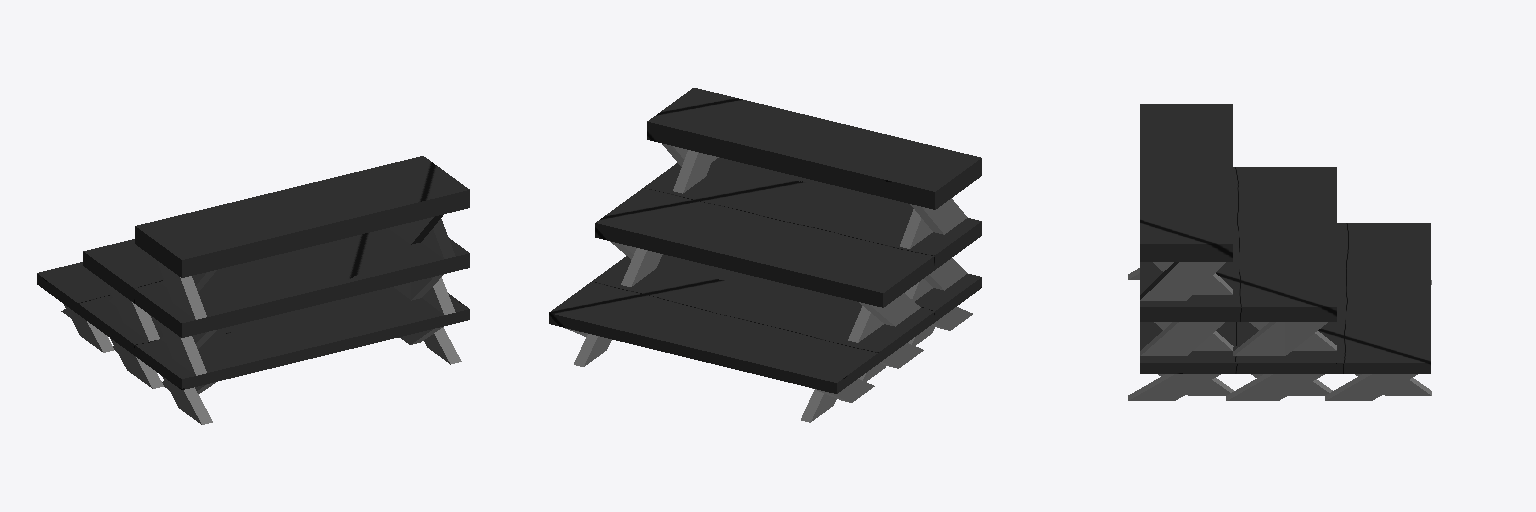
3 views of the same model, side by side, from view 1: azimuth 30°, elevation 25°; view 2: azimuth 150°, elevation 25°; view 3: azimuth 270°, elevation 25° (orthographic).
Visible parts, largest first — view 1: Cube; view 2: Cube; view 3: Cube.
Part boxes in pixels (bbox=[...]): Cube: bbox=[37, 156, 469, 424]; Cube: bbox=[549, 88, 981, 422]; Cube: bbox=[1128, 104, 1431, 400].
Bounding box in the file's own units: 6.4 × 3.49 × 5.85.
Materials: 1 (1 with a texture image).